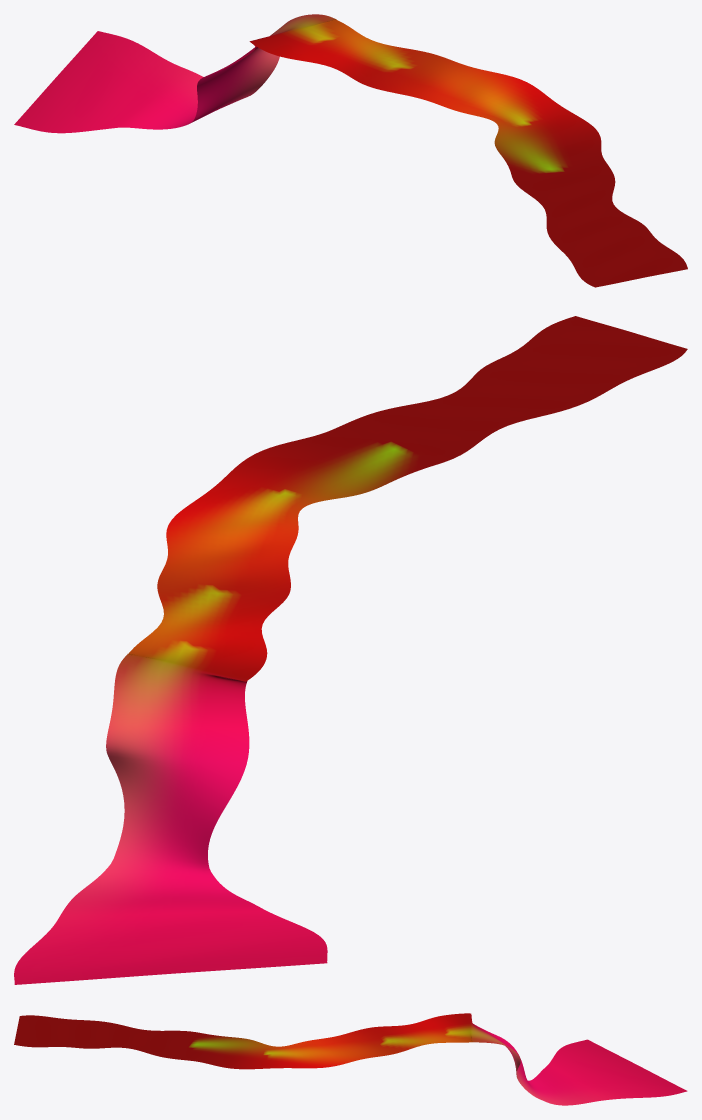
File: RiverSurface_A.fbx
3 renders of one model, top to bottom at view 1: azimuth 30°, elevation 25°; view 2: azimuth 150°, elevation 25°; view 3: azimuth 270°, elevation 25°, orthographic. The views are drawn at different scales.
Parts seen in each view (by area): view 1: RiverSurface_A; view 2: RiverSurface_A; view 3: RiverSurface_A.
Part boxes in pixels (x1,y1,x2,y2): RiverSurface_A: (14, 14, 687, 287); RiverSurface_A: (14, 316, 687, 984); RiverSurface_A: (14, 1013, 687, 1105).
Size of the model in its own units: 2.3 by 0.7928 by 6.31.
